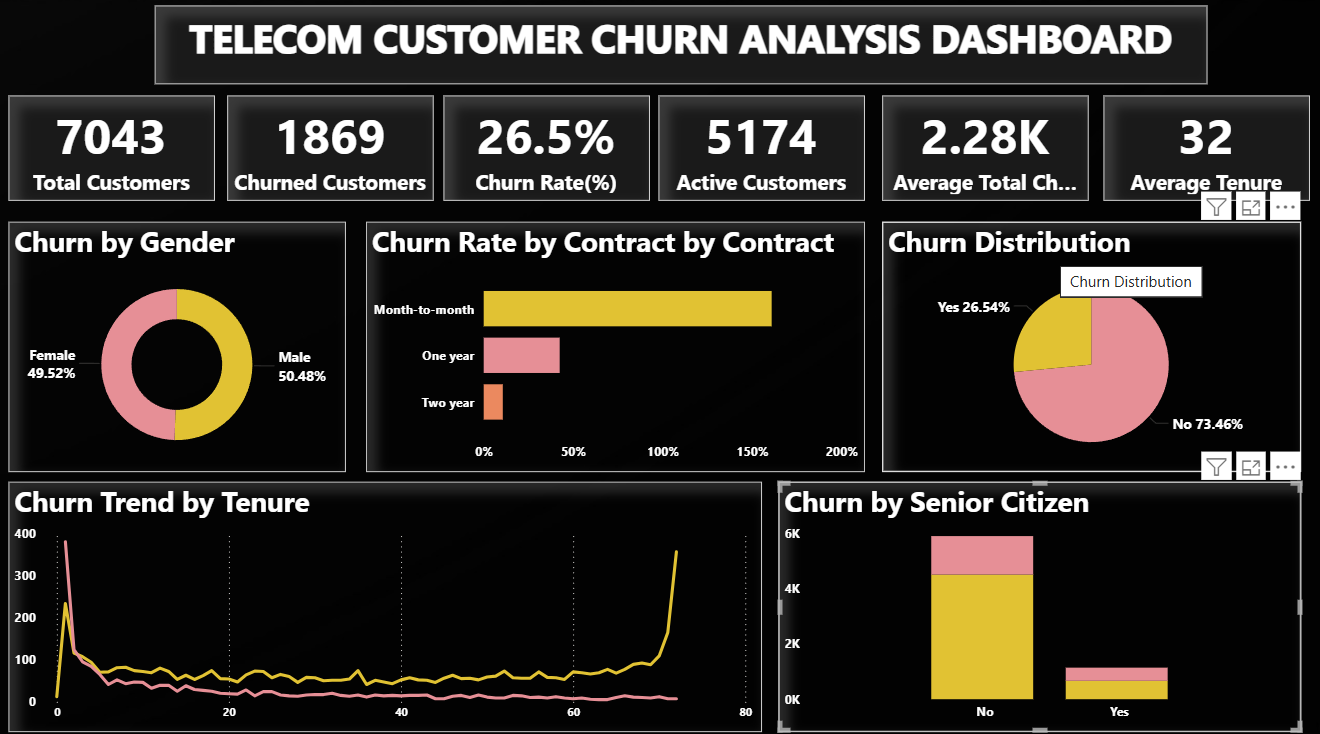

Layout of this report page (visuals, bound fields, positions):
{"tool":"powerbi","page":{"name":"Page 1","canvas":[1280,720],"ordinal":0},"visuals":[{"type":"card","fields":{"Values":["Customer Churn.Total Customers"]},"box":[12.1,98.9,199.1,101.3],"z":0},{"type":"card","fields":{"Values":["Customer Churn.Churned Customers"]},"box":[223.2,98.9,199.1,101.3],"z":1000},{"type":"card","fields":{"Values":["Customer Churn.Average Tenure"]},"box":[1068.9,98.9,199.1,101.3],"z":2000},{"type":"card","fields":{"Values":["Customer Churn.Average Total Charges"]},"box":[855.4,98.9,199.1,101.3],"z":3000},{"type":"card","fields":{"Values":["Customer Churn.Churn Rate(%)"]},"box":[431.9,98.9,199.1,101.3],"z":4000},{"type":"card","fields":{"Values":["Customer Churn.Active Customers"]},"box":[639.4,98.9,199.1,101.3],"z":5000},{"type":"textbox","box":[153.2,12.1,1015.8,76],"z":6000},{"type":"donutChart","title":"Churn by Gender","fields":{"Category":["Customer Churn.gender"],"Y":["CountNonNull(Customer Churn.Churn)"]},"box":[12.1,220.8,325.7,241.3],"z":7000},{"type":"clusteredBarChart","title":"Churn Rate by Contract by Contract","fields":{"Y":["Customer Churn.Churn Rate by Contract"],"Category":["Customer Churn.Contract"]},"box":[357.1,220.8,481.4,241.3],"z":7001},{"type":"columnChart","title":"Churn by Senior Citizen","fields":{"Category":["Customer Churn.SeniorCitizenLabel1"],"Series":["Customer Churn.Churn"],"Y":["CountNonNull(Customer Churn.customerID)"]},"box":[755.2,471.7,504.3,241.3],"z":7002},{"type":"lineChart","title":"Churn Trend by Tenure","fields":{"Category":["Customer Churn.tenure"],"Y":["CountNonNull(Customer Churn.customerID)"],"Series":["Customer Churn.Churn"]},"box":[12.1,471.7,727.5,241.3],"z":7003},{"type":"pieChart","title":"Churn Distribution","fields":{"Category":["Customer Churn.Churn"],"Y":["CountNonNull(Customer Churn.customerID)"]},"box":[855.4,220.8,404.2,241.3],"z":7004}]}

Visuals, with their boxes in screenshot pixels (x1, y1, x2, y2), scaled from the page's 1280x720 canvas onto the 1320x734 screenshot:
card - Customer Churn.Total Customers: bbox=(12, 101, 218, 204)
card - Customer Churn.Churned Customers: bbox=(230, 101, 435, 204)
card - Customer Churn.Average Tenure: bbox=(1102, 101, 1308, 204)
card - Customer Churn.Average Total Charges: bbox=(882, 101, 1087, 204)
card - Customer Churn.Churn Rate(%): bbox=(445, 101, 651, 204)
card - Customer Churn.Active Customers: bbox=(659, 101, 865, 204)
textbox: bbox=(158, 12, 1206, 90)
"Churn by Gender" donutChart: bbox=(12, 225, 348, 471)
"Churn Rate by Contract by Contract" clusteredBarChart: bbox=(368, 225, 865, 471)
"Churn by Senior Citizen" columnChart: bbox=(779, 481, 1299, 727)
"Churn Trend by Tenure" lineChart: bbox=(12, 481, 763, 727)
"Churn Distribution" pieChart: bbox=(882, 225, 1299, 471)
